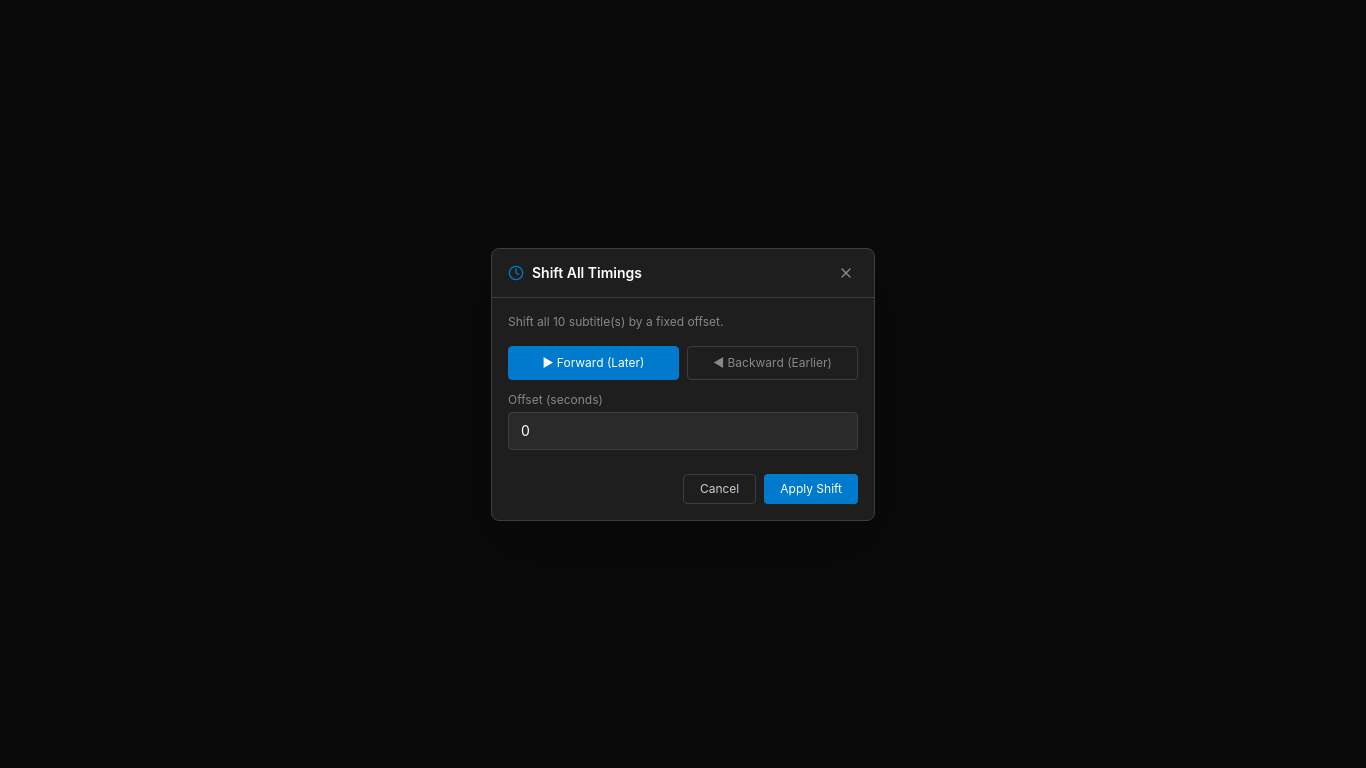
it: ShiftTimingsDialog › updates preview message based on input and direction
This screenshot has width=1366, height=768.
Replace the text in the number field labelled "Offset (seconds)" with "1.5": coordinates (683, 430) [508, 412, 858, 450]
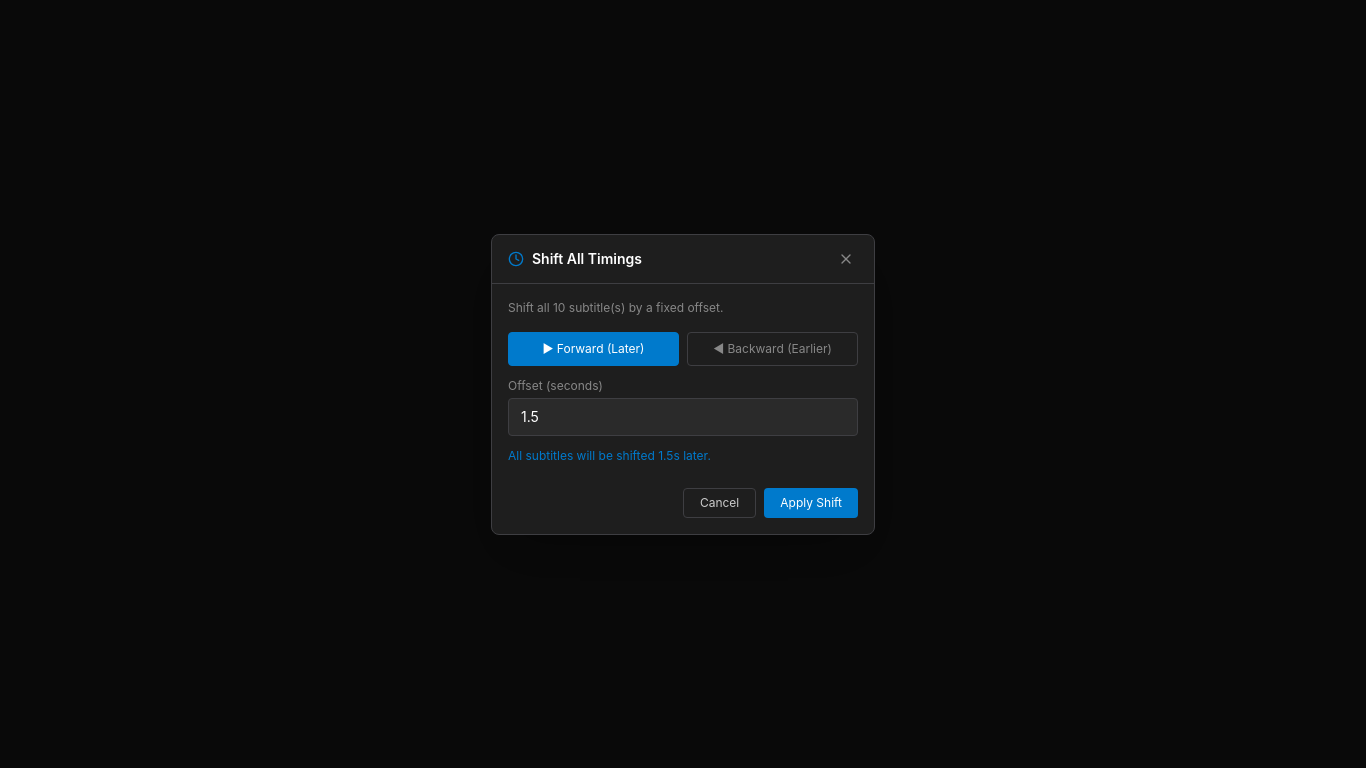
Check: the text "All subtitles will be shifted 1.5s later." is shown, box [508, 448, 711, 462]
Click the button "◀ Backward (Earlier)": coordinates (772, 348) [687, 332, 858, 366]
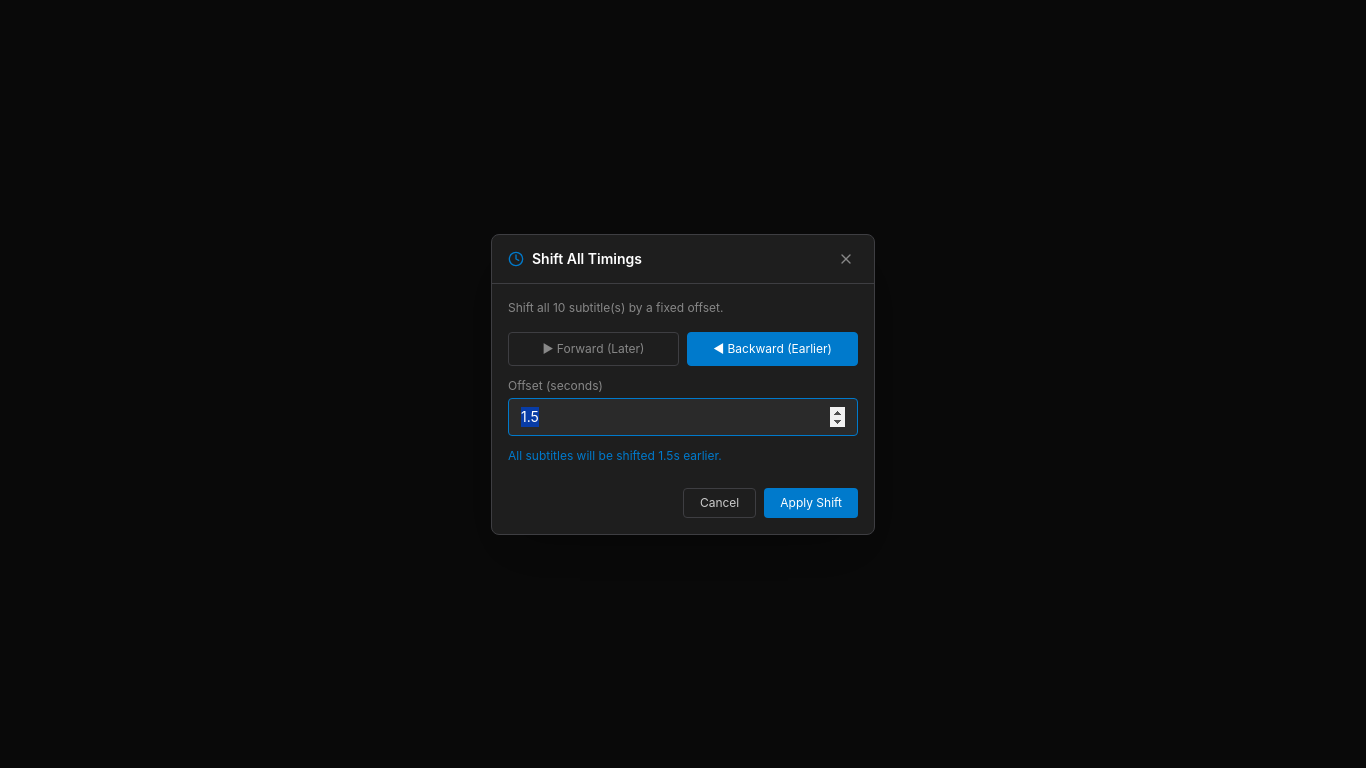
Check: the text "All subtitles will be shifted 1.5s earlier." is shown, box [508, 448, 722, 462]
